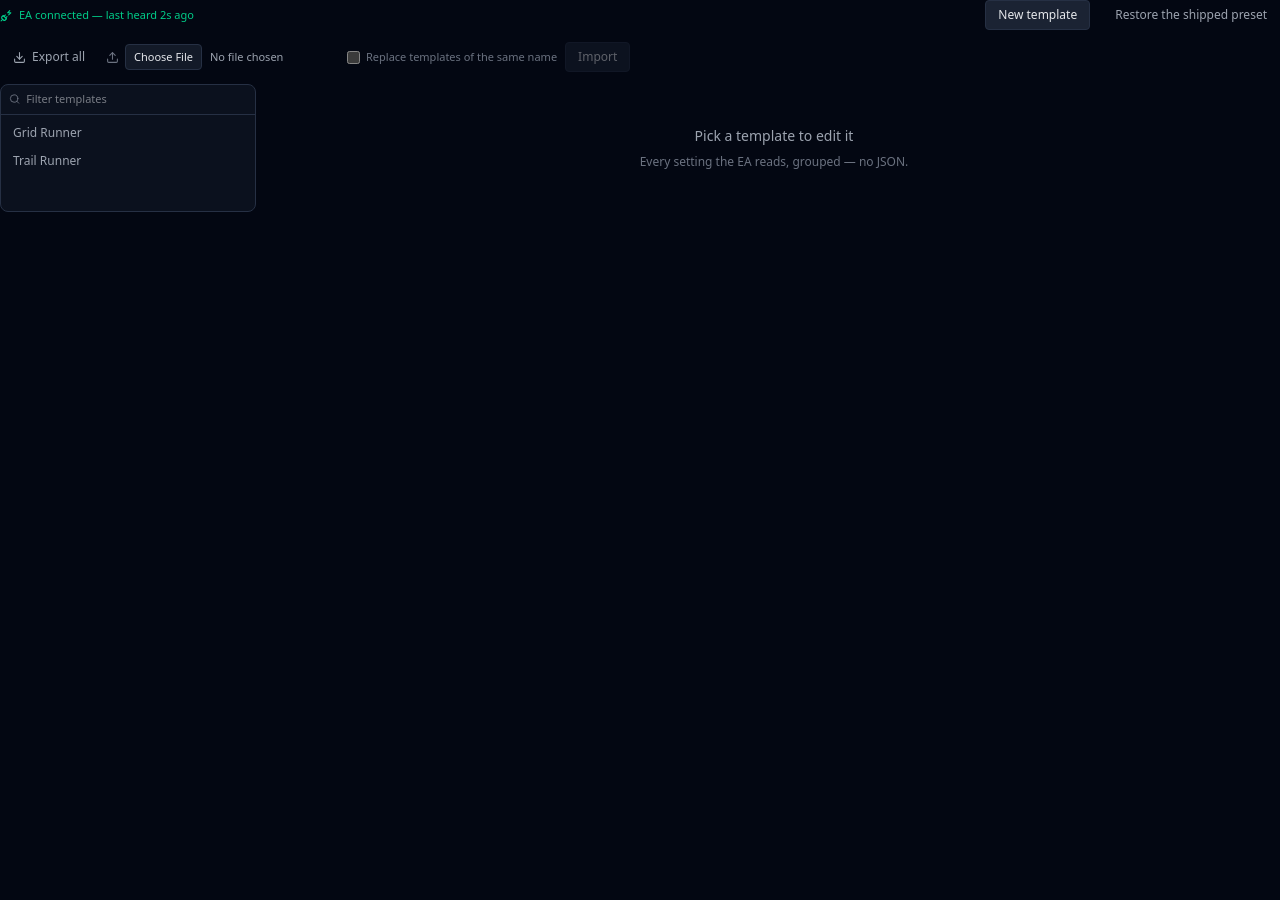
Test: what it says before renaming › says plainly when nothing points at it
Step 1. Click the button "Grid Runner" → point(128, 132), box [5,118,251,146]
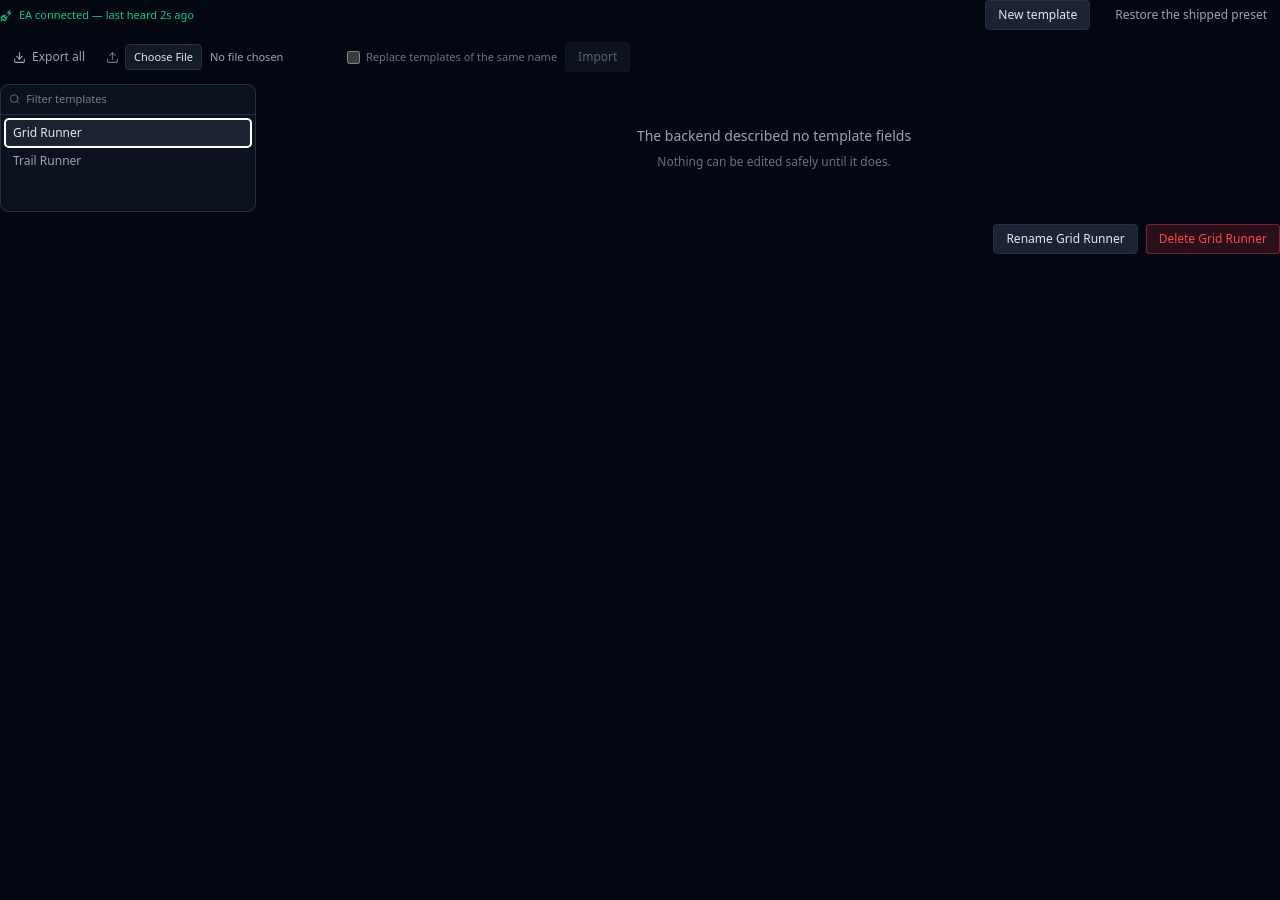
Step 2. Click the button "Rename Grid Runner" → point(1066, 239), box [993,224,1138,254]
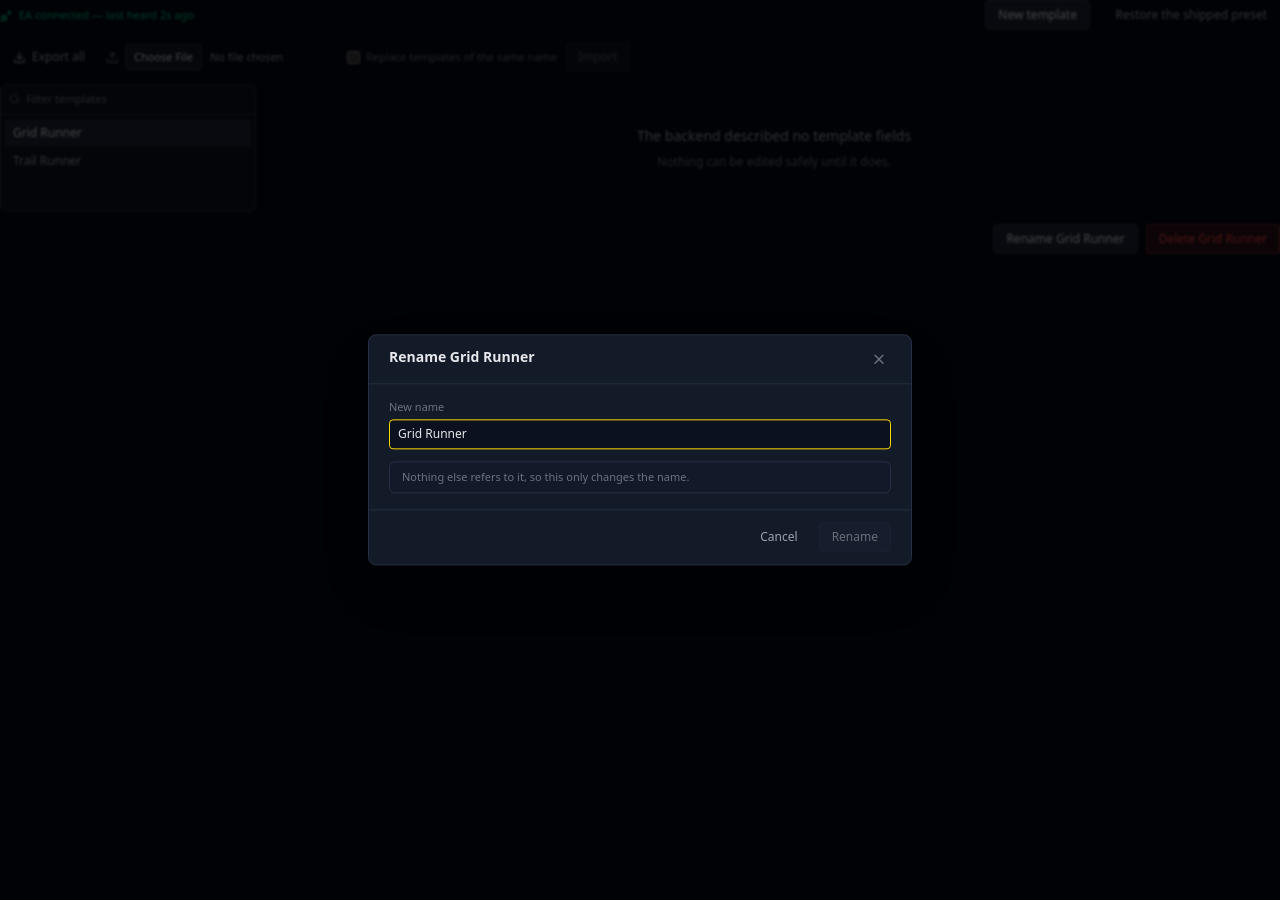
Check: the text with test id "rename-references" shows "Nothing else refers to it", box [402,469,689,484]
